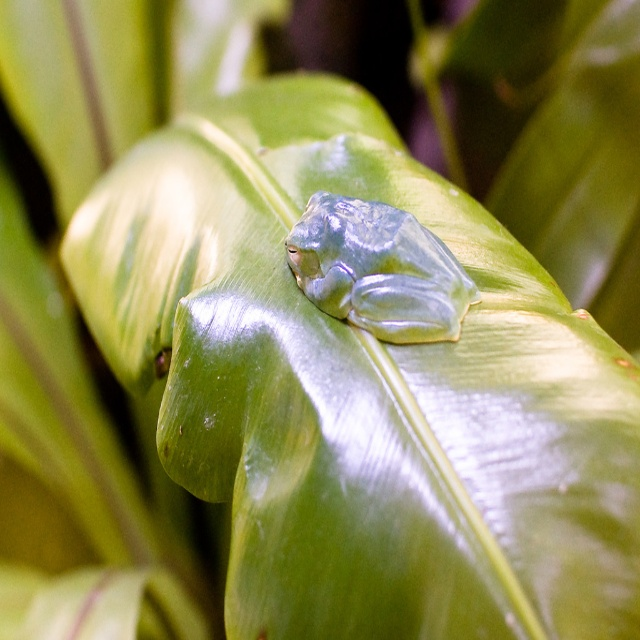Frog: (284, 188, 484, 346)
